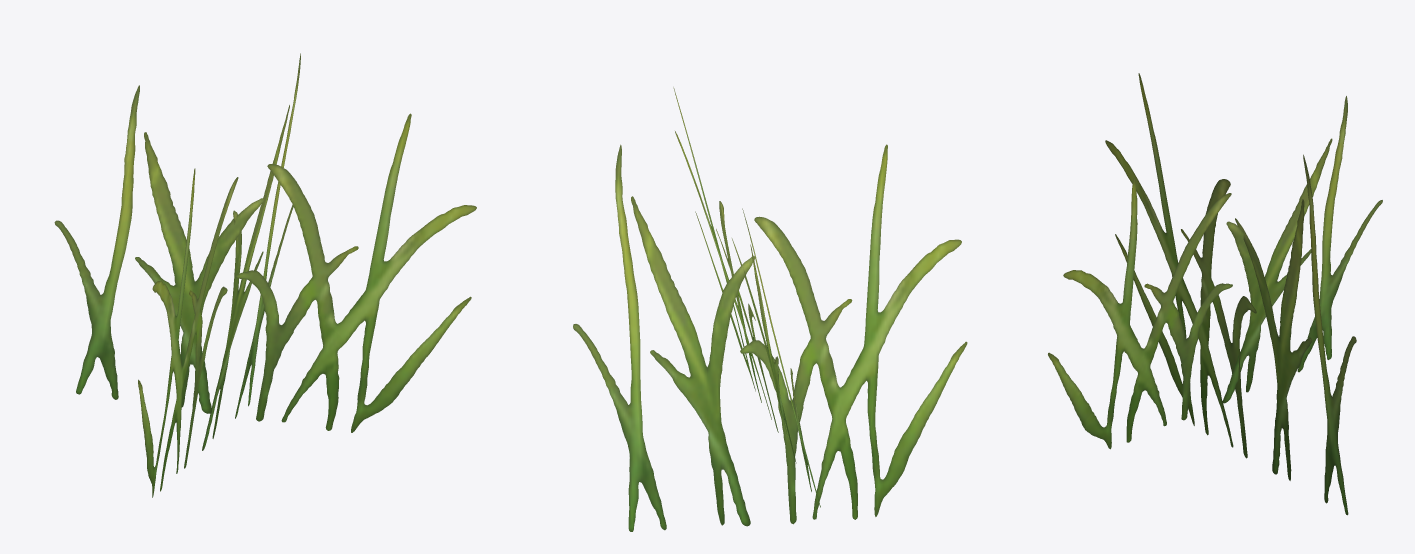
Rendered from sucai_01_01.FBX.
The picture shows the model from 3 angles, left to right: view 1: azimuth 30°, elevation 25°; view 2: azimuth 150°, elevation 25°; view 3: azimuth 270°, elevation 25°; orthographic projection. The views are drawn at different scales.
Parts seen in each view (by area): view 1: sucai_01; view 2: sucai_01; view 3: sucai_01.
Boxes of the visible parts, box(x1,y1,x2,y2) form: sucai_01: box(54, 53, 476, 497); sucai_01: box(573, 87, 967, 531); sucai_01: box(1048, 73, 1382, 515).
Size of the model in its own units: 36.79 by 36.14 by 30.95.
